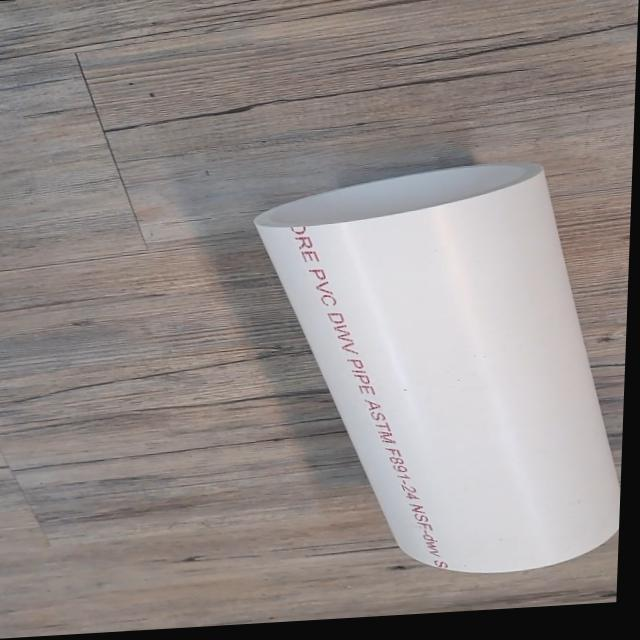CORAL: (232, 147, 633, 593)
